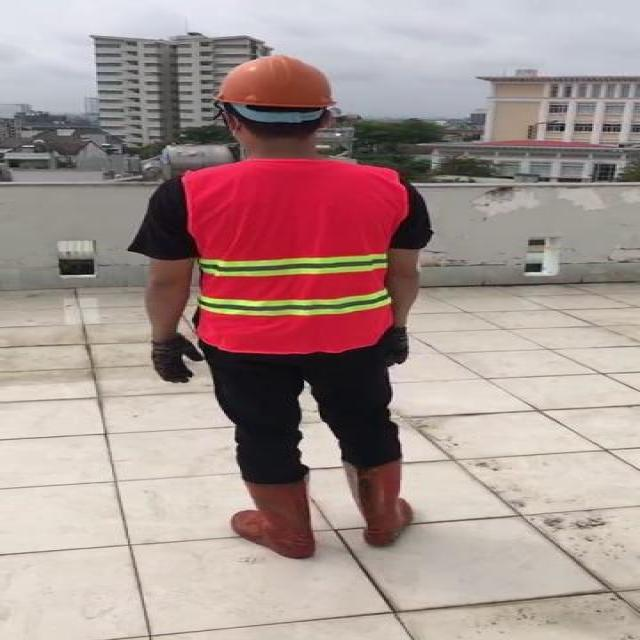boots: (230, 471, 318, 558), (345, 459, 418, 547)
hand_glove: (149, 336, 201, 381), (384, 327, 414, 367)
head_helmet: (199, 52, 345, 117)
person: (122, 47, 458, 570)
vest: (183, 162, 402, 351)
